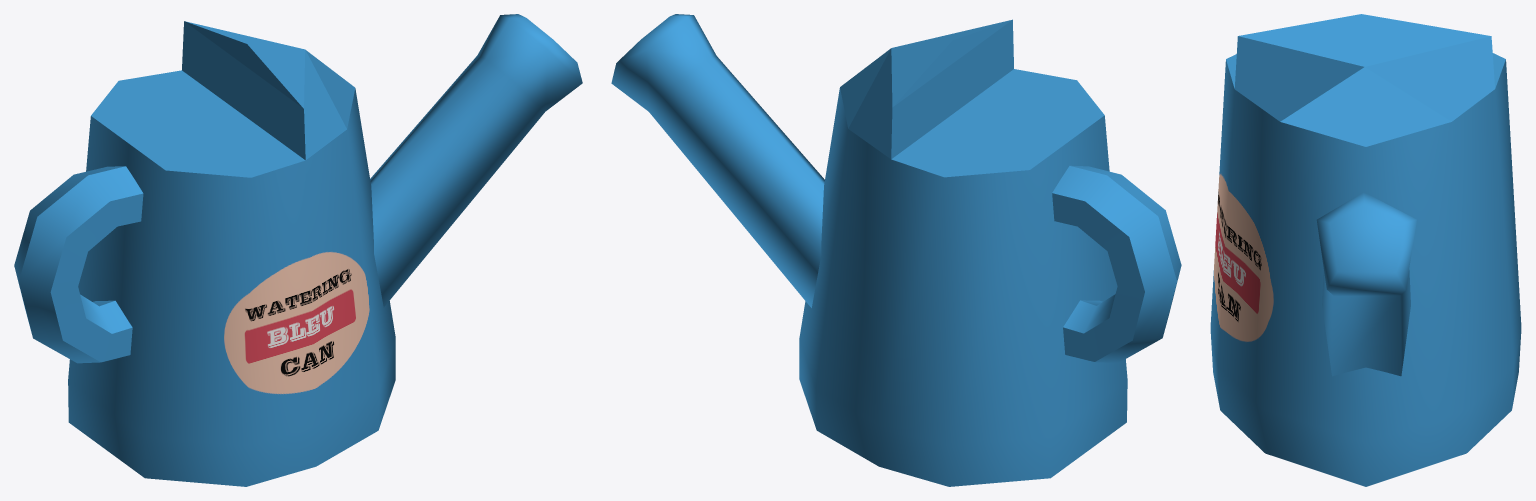
The model's file is Watering Can.fbx.
3 views of the same model, side by side, from view 1: azimuth 30°, elevation 25°; view 2: azimuth 150°, elevation 25°; view 3: azimuth 270°, elevation 25° (orthographic). The views are drawn at different scales.
Parts seen in each view (by area): view 1: Watering Can; view 2: Watering Can; view 3: Watering Can.
Part boxes in pixels (left/top/right/bottom): Watering Can: left=14, top=14, right=582, bottom=486; Watering Can: left=611, top=14, right=1181, bottom=486; Watering Can: left=1210, top=14, right=1521, bottom=486.
Size of the model in its own units: 0.2032 by 0.133 by 0.0949.
